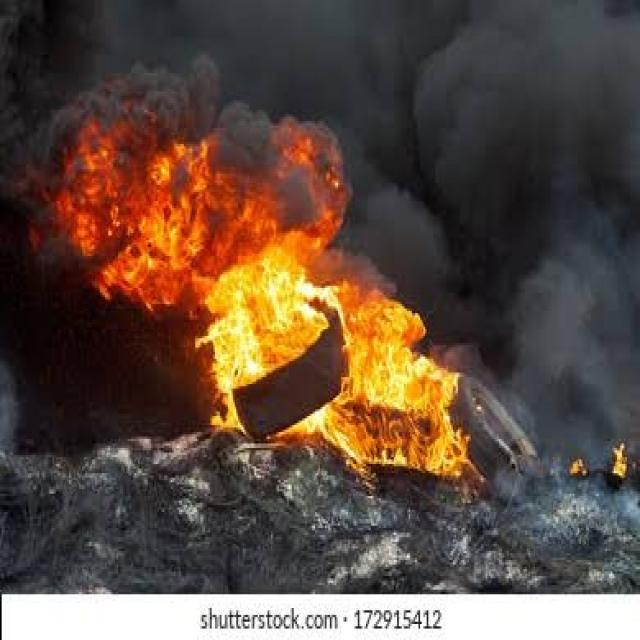fire: (196, 242, 342, 447), (59, 122, 194, 311), (343, 288, 469, 476), (192, 123, 347, 245)
